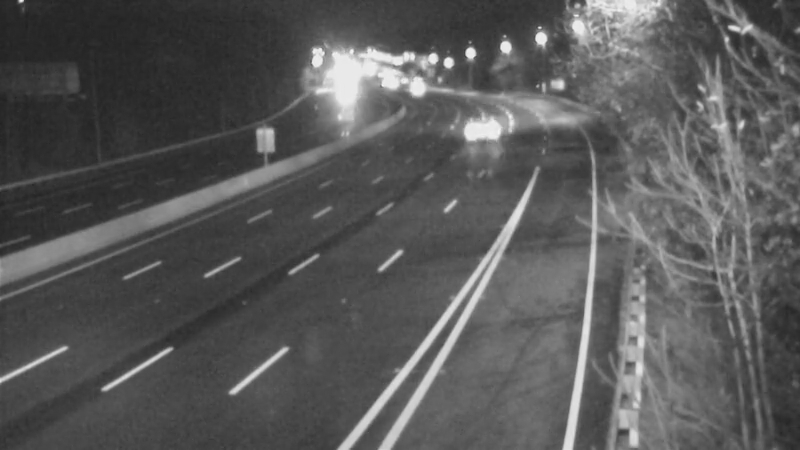vehicle: (391, 64, 441, 114), (458, 102, 508, 152)
